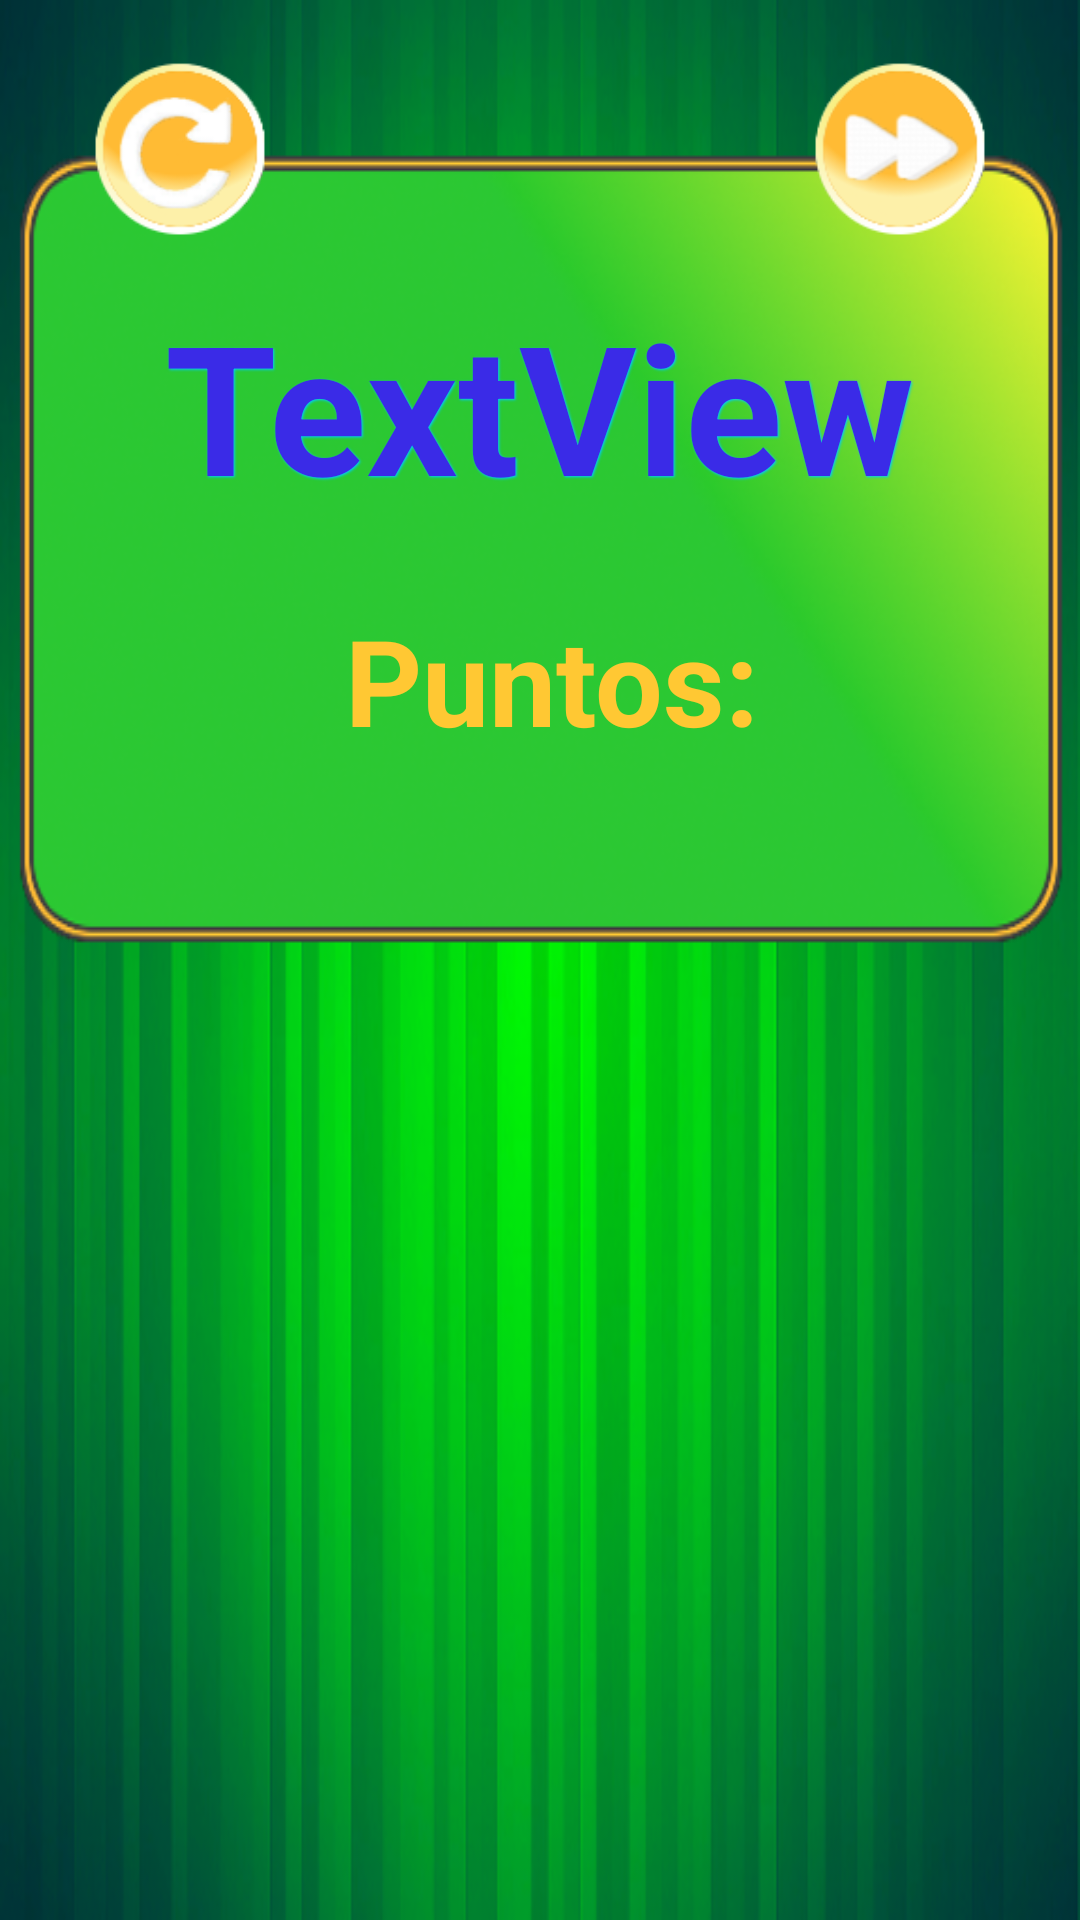

Screen size 1080w x 1920h. Icon name, then its center in pixels as [x,y]:
btnreiniciar: [180,150]
btnsiguiente: [900,150]
